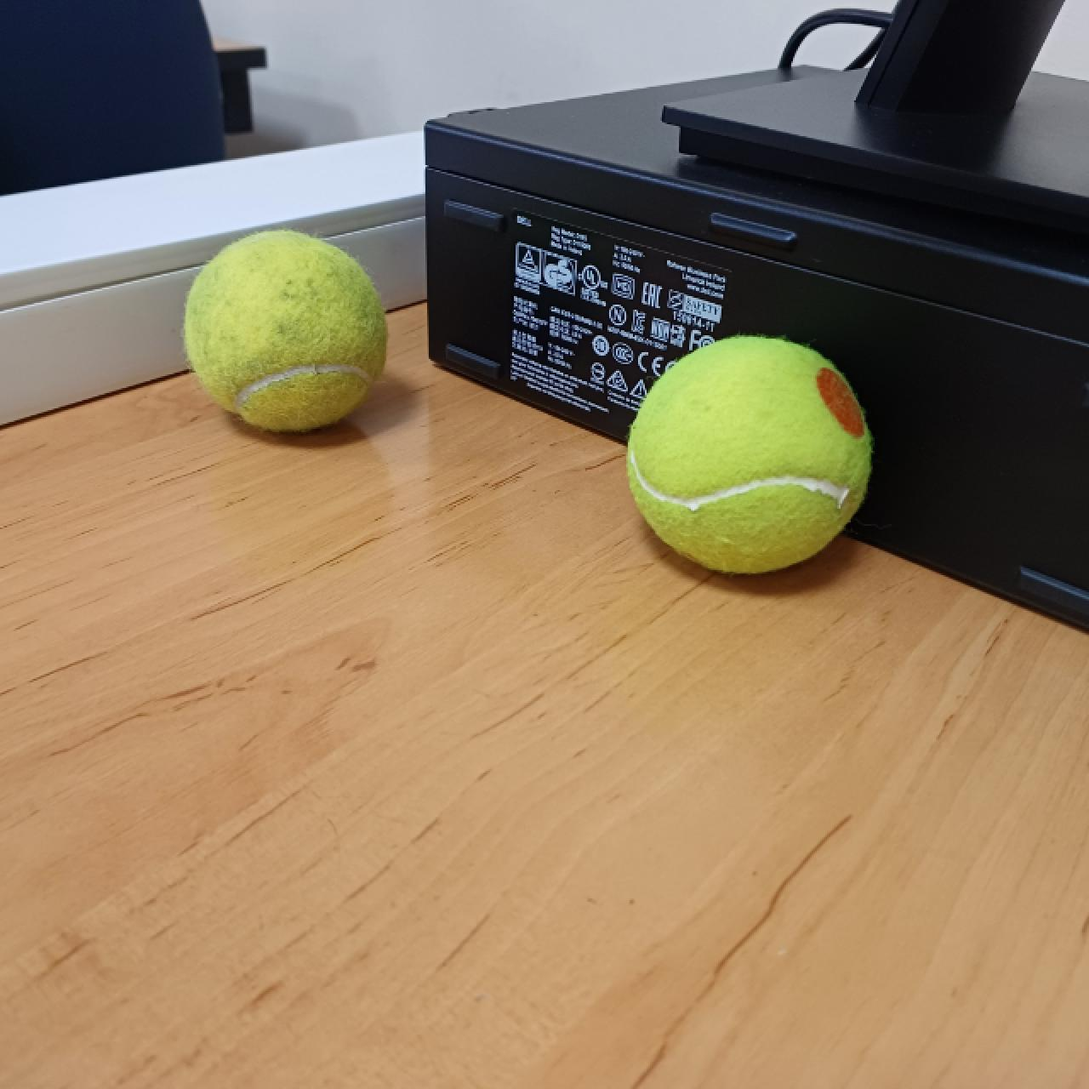tennis-ball: (626, 334, 875, 579), (182, 226, 393, 435)
